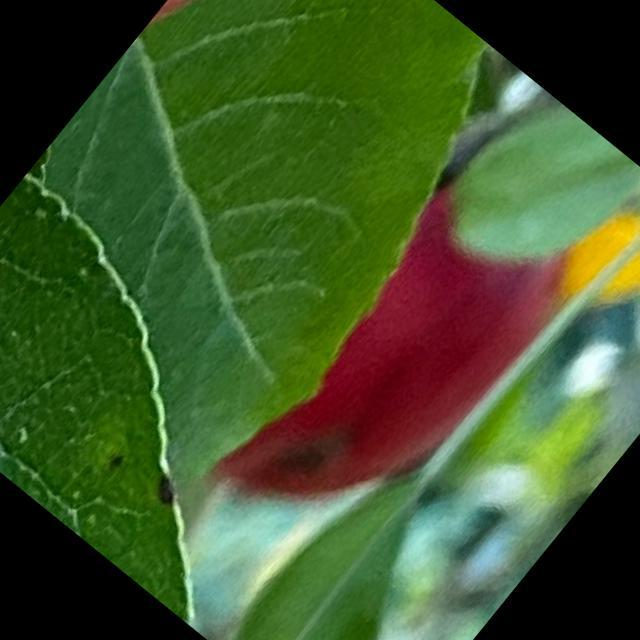100-_ripeness: (210, 165, 586, 573)
